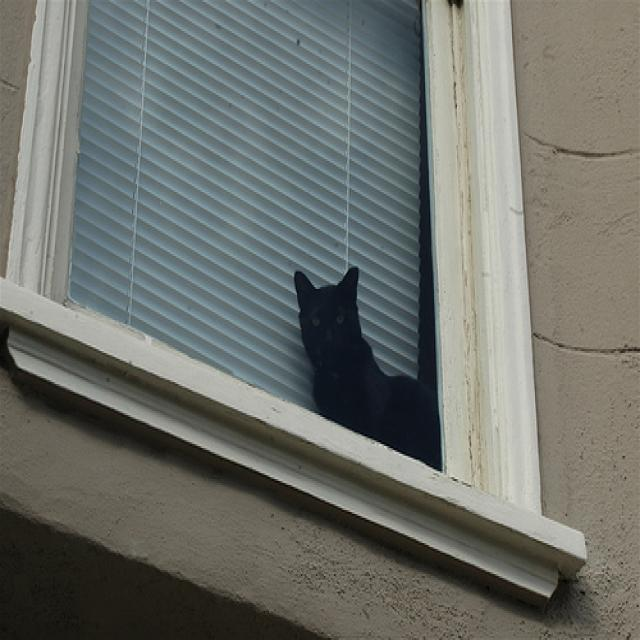cat: (294, 265, 443, 472)
